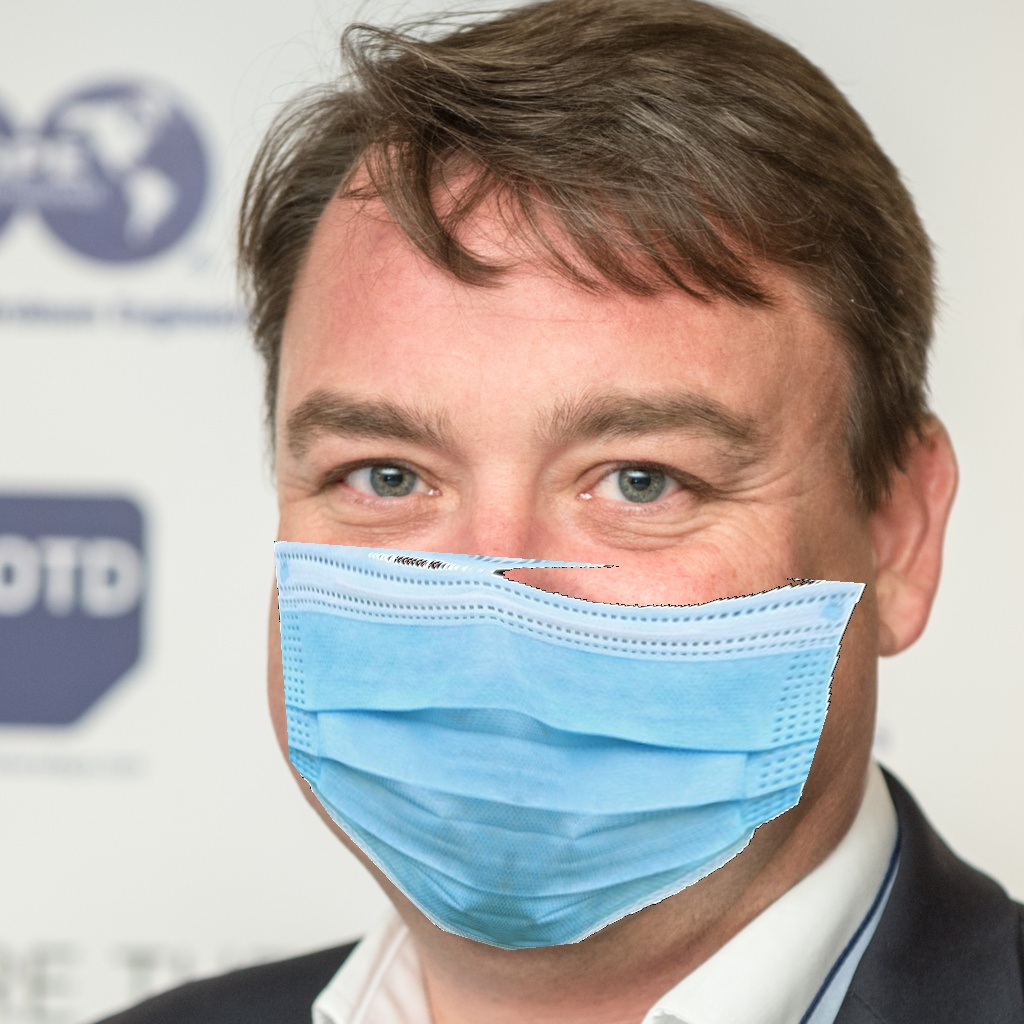Mask: (269, 377, 872, 956)
